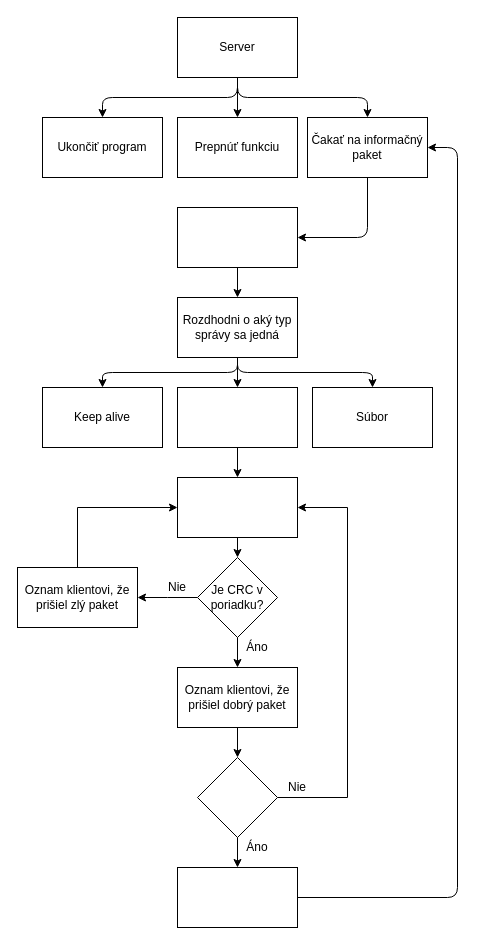
This 483x945 diagram has some shape labels left out. Each missing label, with the centre of its shape:
"Ak neprídu žiadne pakety, po 60 sekundách preruš spojenie" belongs at (x=237, y=237).
"Mám už všetky pakety?" belongs at (x=237, y=797).
"Oznam, že všetko prišlo v poriadku" belongs at (x=237, y=897).
"Prijímaj pakety" belongs at (x=237, y=507).
"Správa" belongs at (x=237, y=417).
